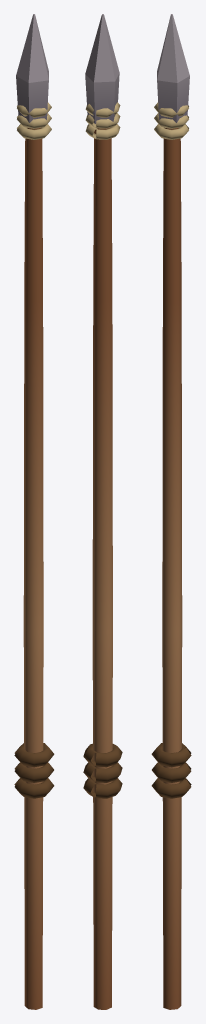
The model's file is spear.glb.
3 views of the same model, side by side, from view 1: azimuth 90°, elevation 25°; view 2: azimuth 150°, elevation 25°; view 3: azimuth 270°, elevation 25° (orthographic).
Parts seen in each view (by area): view 1: spear; view 2: spear; view 3: spear.
Part boxes in pixels (<box>): spear: <box>14,14,54,1009</box>; spear: <box>83,14,122,1009</box>; spear: <box>151,14,191,1009</box>.
Bounding box in the file's own units: 0.078 × 2.1 × 0.0769.
